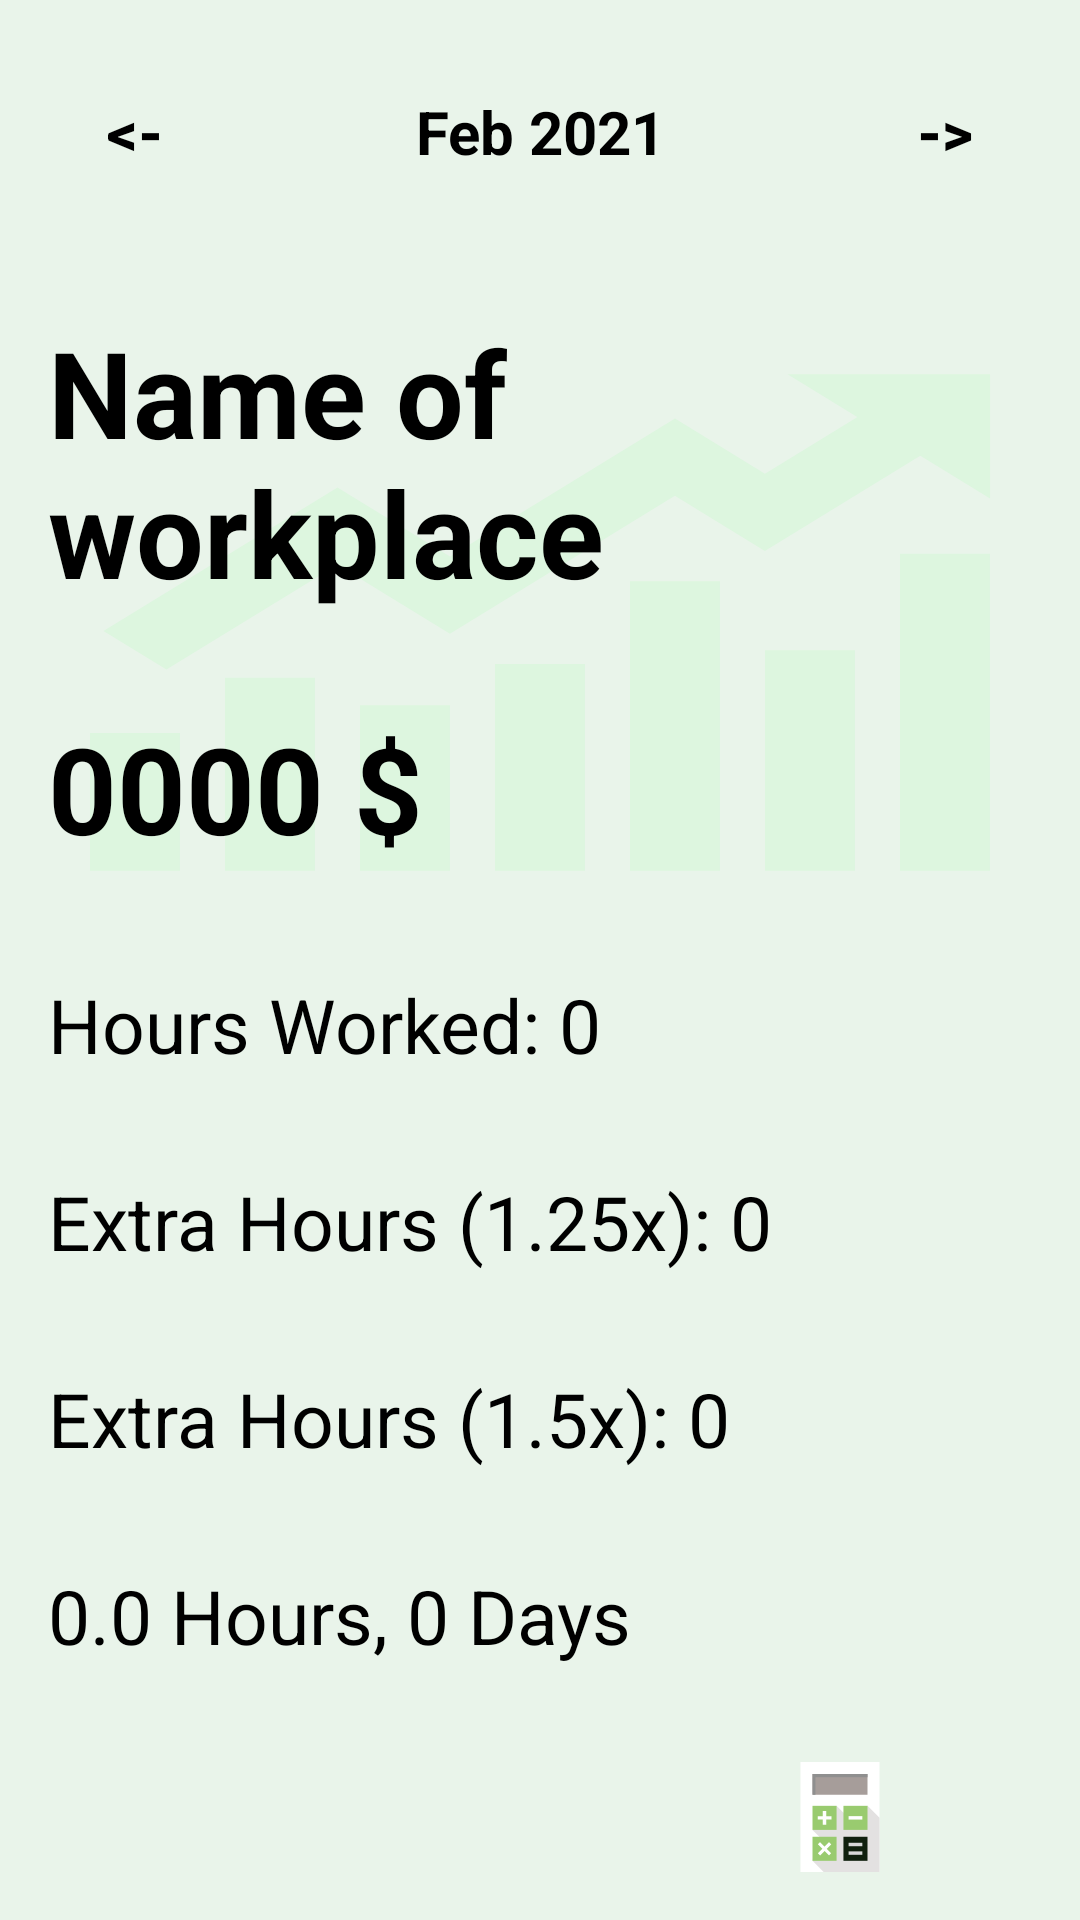

Icons on this 1080 × 1920 Android screen, each with its box as (x1, y1, x2, y2):
calculator part: (812, 1774, 868, 1861)
